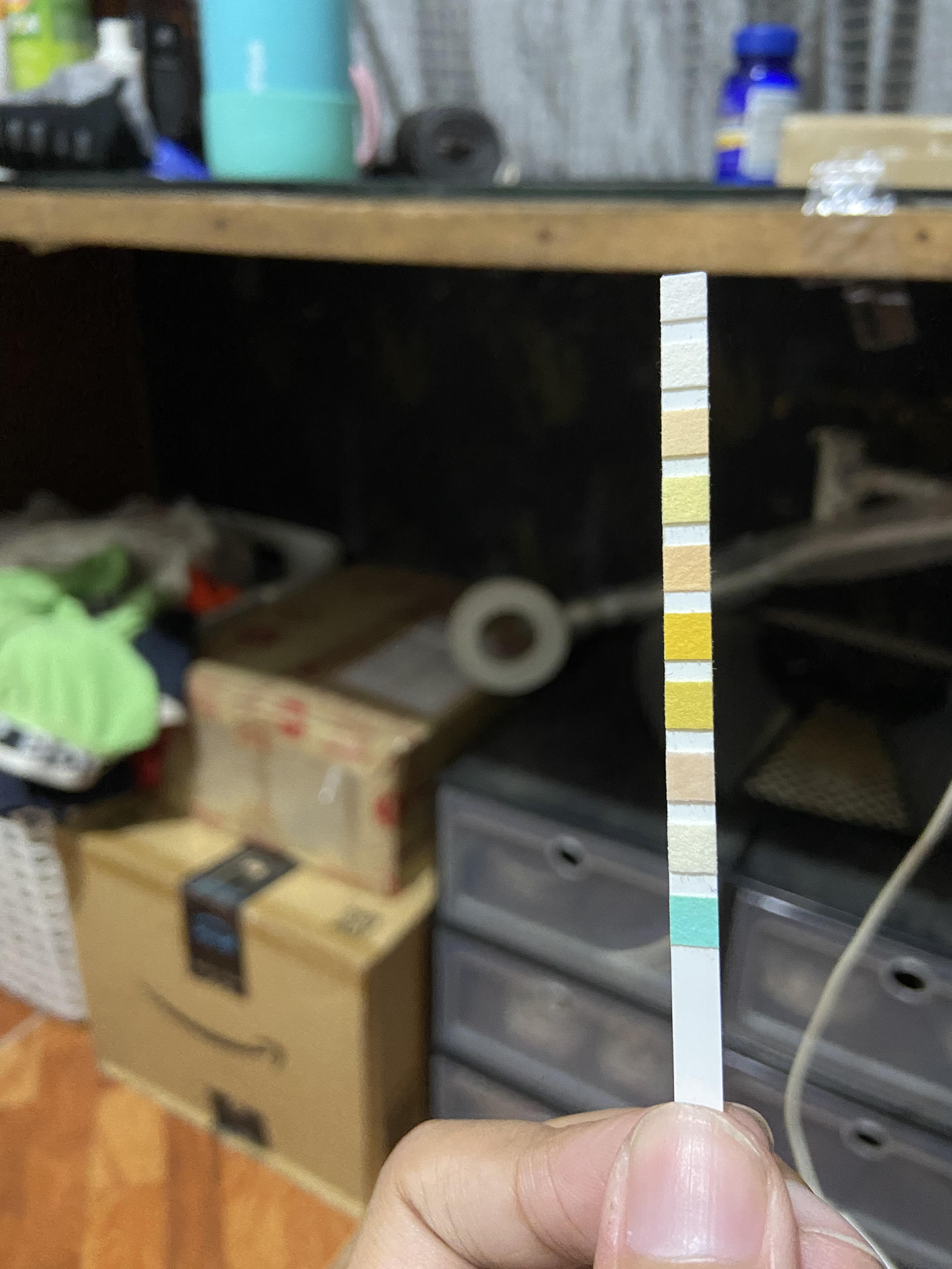Bilirubin: (669, 825, 716, 872)
Blood: (665, 614, 711, 657)
Glucose: (671, 897, 716, 947)
Ketone: (668, 753, 714, 802)
Leukocytes: (661, 278, 706, 314)
Nitrite: (662, 347, 707, 387)
Protein: (663, 479, 709, 519)
SpGravity: (665, 684, 713, 728)
Urobilinogen: (663, 412, 707, 453)
pH: (664, 547, 710, 590)
strip: (661, 270, 723, 1112)
